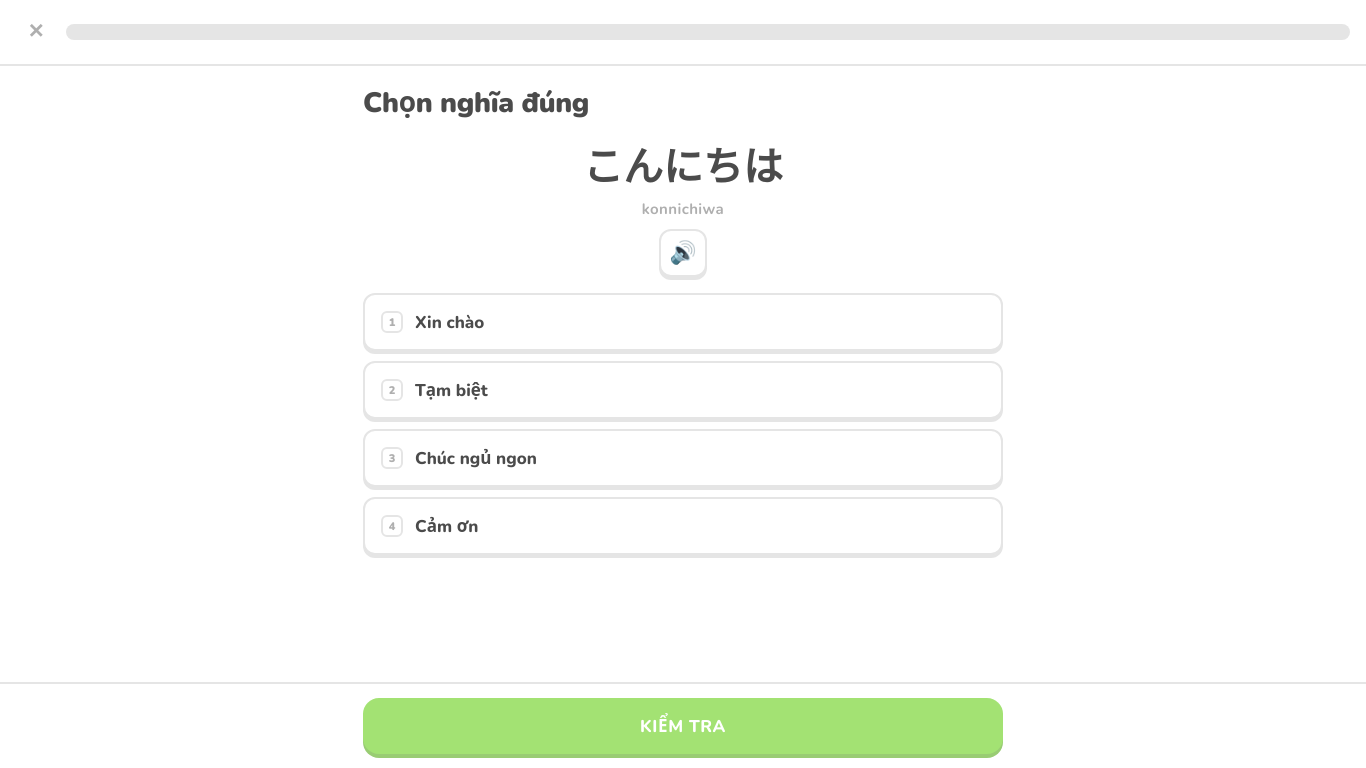
LessonScreen — trả lời sai › hiện đáp án đúng và không trừ tim
Step 1. Click the button with test id "choice-b" → (451, 390), box x1=363 y1=361 x2=1003 y2=419
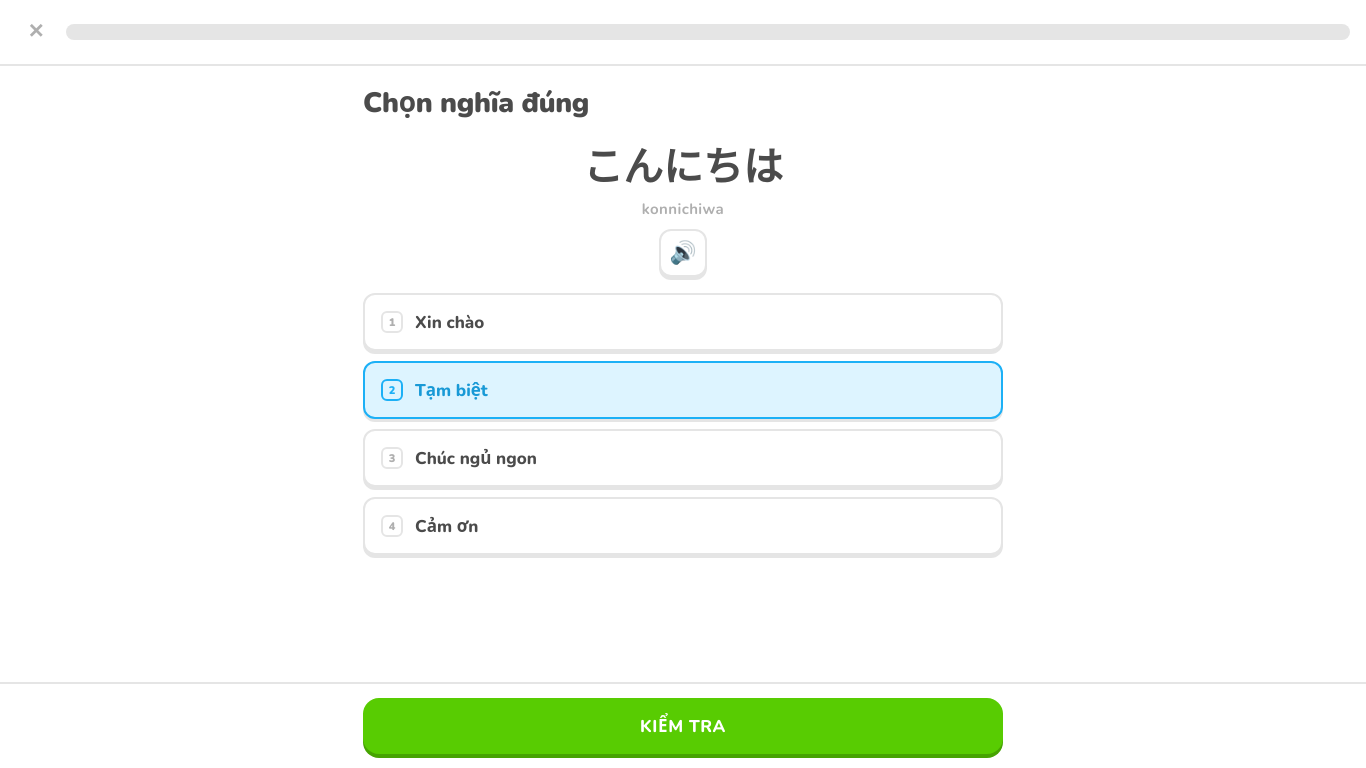
Expected: the button with test id "check-button" is enabled
Step 2. Click the button with test id "check-button" → (683, 726), box x1=363 y1=698 x2=1003 y2=754
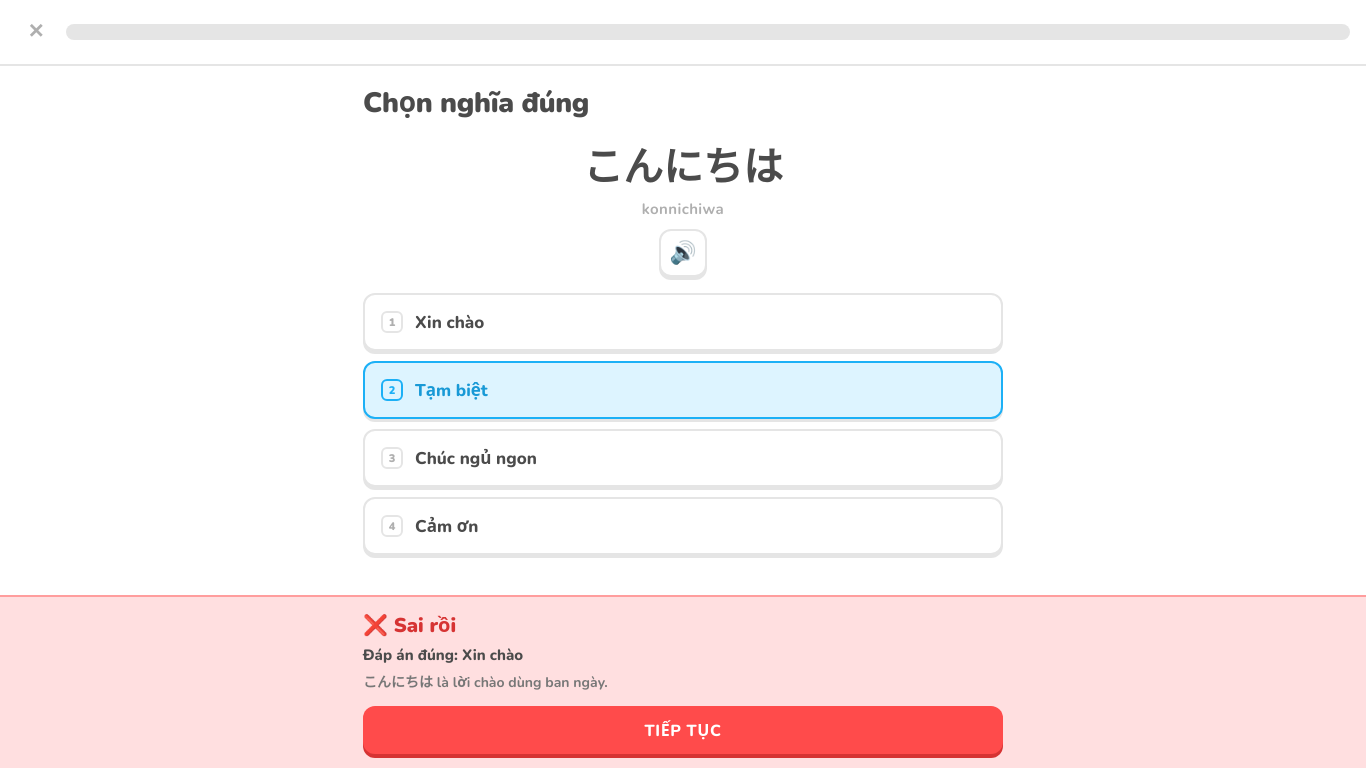
Expected: the message with test id "verdict" shows "Sai rồi", x1=363 y1=612 x2=456 y2=639
Expected: the message with test id "verdict" shows "Đáp án đúng", x1=363 y1=645 x2=462 y2=665
